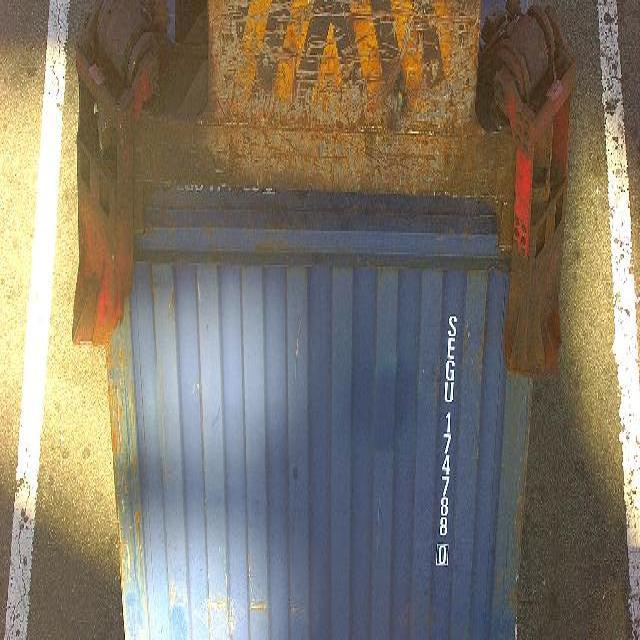container_number: (432, 300, 462, 568)
